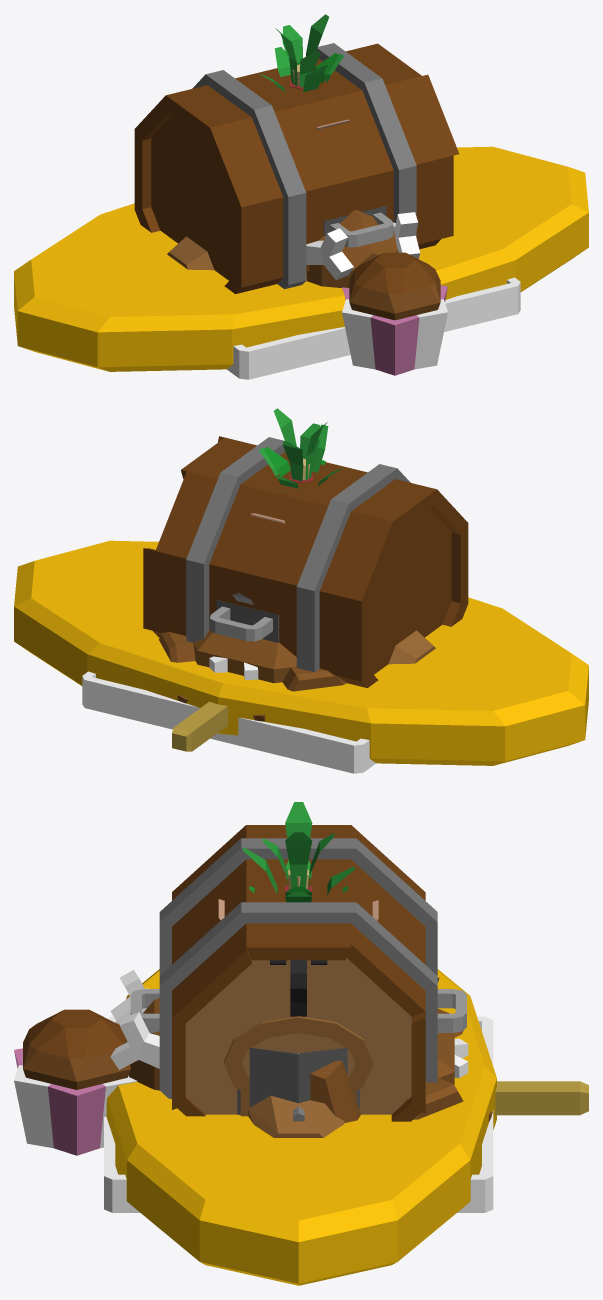
File: Comida.fbx
3 views of the same model, one above another, from view 1: azimuth 30°, elevation 25°; view 2: azimuth 150°, elevation 25°; view 3: azimuth 270°, elevation 25° (orthographic). The views are drawn at different scales.
Visible parts, largest first — view 1: Barril, QuesoCompleto, Muffin02, CajaPizza, Cebollin, Pavo, JamonEntero, Olla01, PanBaguette; view 2: Barril, QuesoCompleto, CajaPizza, Pavo, Cebollin, Sarten, Olla01, PanBaguette, OllaVacia02, JamonEntero; view 3: Barril, QuesoCompleto, Muffin02, Pavo, Olla01, PanMolde, CajaPizza, Sarten, Cebollin, PanBaguette, JamonEntero, BloqueDeCuchillos.
Boxes of the visible parts, bbox=[...] form: Barril: bbox=[134, 43, 459, 293]; QuesoCompleto: bbox=[14, 146, 588, 371]; Muffin02: bbox=[342, 252, 447, 375]; CajaPizza: bbox=[227, 277, 520, 379]; Cebollin: bbox=[259, 14, 343, 92]; Pavo: bbox=[306, 212, 420, 280]; JamonEntero: bbox=[307, 209, 398, 287]; Olla01: bbox=[323, 206, 393, 247]; PanBaguette: bbox=[167, 236, 214, 270]; Barril: bbox=[143, 436, 468, 687]; QuesoCompleto: bbox=[14, 540, 588, 765]; CajaPizza: bbox=[82, 671, 375, 773]; Pavo: bbox=[159, 630, 346, 721]; Cebollin: bbox=[259, 408, 343, 488]; Sarten: bbox=[172, 701, 227, 751]; Olla01: bbox=[209, 600, 277, 641]; PanBaguette: bbox=[388, 630, 435, 664]; OllaVacia02: bbox=[216, 600, 279, 642]; JamonEntero: bbox=[209, 656, 258, 679]; Barril: bbox=[159, 825, 437, 1121]; QuesoCompleto: bbox=[106, 969, 496, 1285]; Muffin02: bbox=[14, 1009, 137, 1155]; Pavo: bbox=[110, 969, 492, 1122]; Olla01: bbox=[130, 989, 466, 1114]; PanMolde: bbox=[224, 1016, 373, 1116]; CajaPizza: bbox=[104, 1016, 493, 1212]; Sarten: bbox=[495, 1081, 588, 1115]; Cebollin: bbox=[243, 802, 354, 902]; PanBaguette: bbox=[248, 1095, 344, 1137]; JamonEntero: bbox=[129, 998, 468, 1090]; BloqueDeCuchillos: bbox=[270, 959, 327, 1053].
Bounding box in the file's own units: 94.98 × 45.88 × 70.26.
